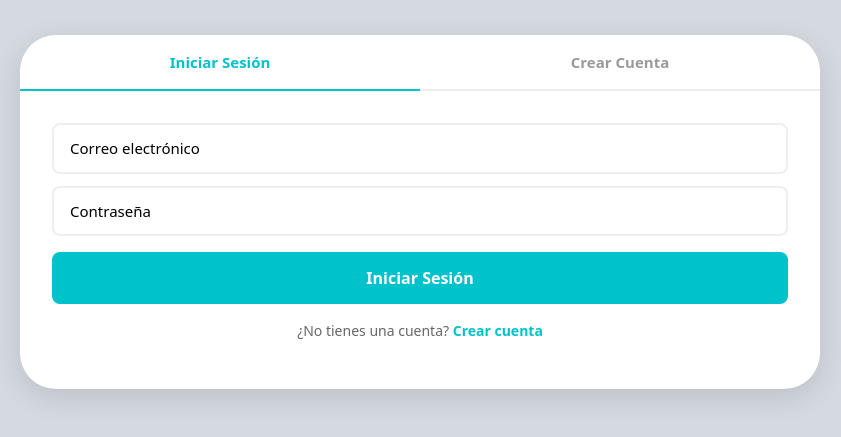
Test: LoginRegister › muestra error al enviar login sin contraseña
The image size is (841, 437).
Type "test@gmail.com" into the field with placeholder "Correo electrónico" at (420, 149), box [52,123,788,174]
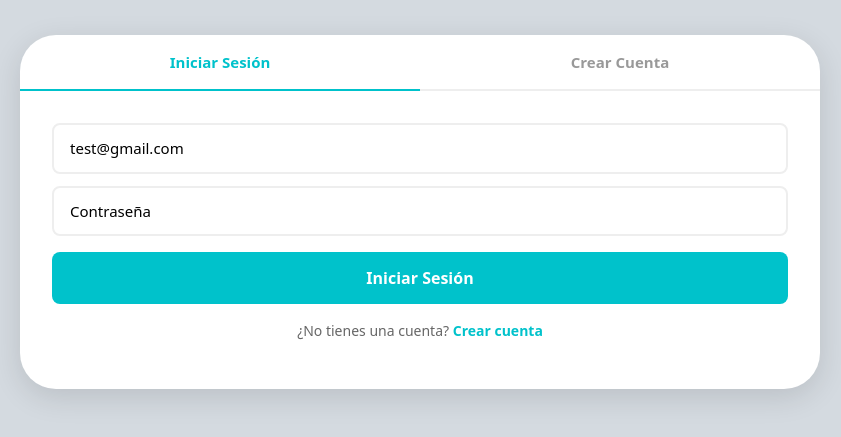
Click the 2nd button "Iniciar Sesión" at (420, 278), box [52,252,788,304]
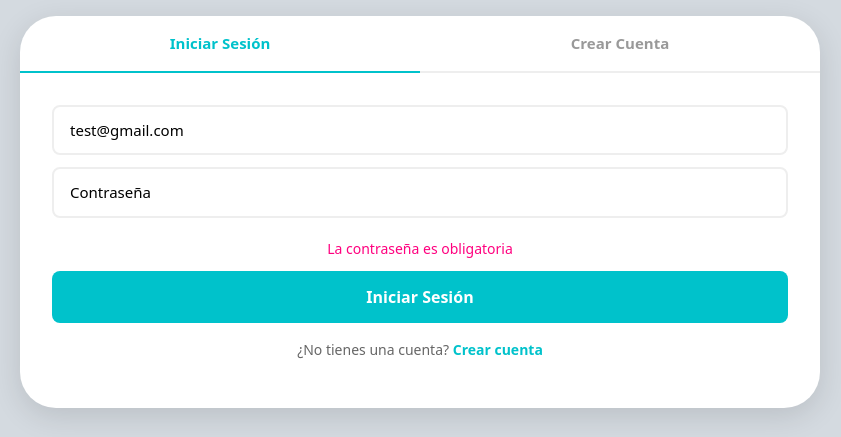
Expected: the text "La contraseña es obligatoria" is shown, [327,239,513,258]
